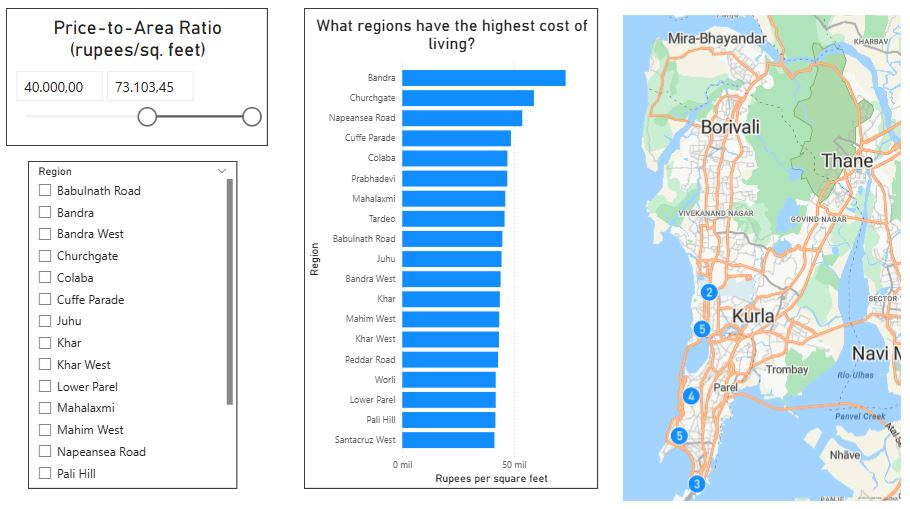

Layout of this report page (visuals, bound fields, positions):
{"tool":"powerbi","page":{"name":"price_to_area_dashboard","canvas":[1280,720],"ordinal":1},"visuals":[{"type":"slicer","title":"Price-to-Area Ratio (rupees/sq. feet)","fields":{"Values":["area_region_price_relation.Price-to-area Ratio (rupees)"]},"box":[30.7,37.3,349.3,184],"z":0},{"type":"azureMap","fields":{"Category":["area_region_price_relation.Region + Sufix"]},"box":[848,41.3,381.3,658.7],"z":1000},{"type":"slicer","fields":{"Values":["area_region_price_relation.Region"]},"box":[60,241.3,278.7,437.3],"z":2000},{"type":"barChart","title":"What regions have the highest cost of living?","fields":{"Category":["area_region_price_relation.Region"],"Y":["Avg(area_region_price_relation.Price-to-area Ratio (rupees))"]},"box":[428.1,37.1,392.4,640.7],"z":3000}]}

Visuals, with their boxes in screenshot pixels (x1, y1, x2, y2), scaled from the page's 1280x720 canvas onto the 910x509 screenshot:
"Price-to-Area Ratio (rupees/sq. feet)" slicer: 22:26:270:156
azureMap - area_region_price_relation.Region + Sufix: 603:29:874:495
slicer - area_region_price_relation.Region: 43:171:241:480
"What regions have the highest cost of living?" barChart: 304:26:583:479
